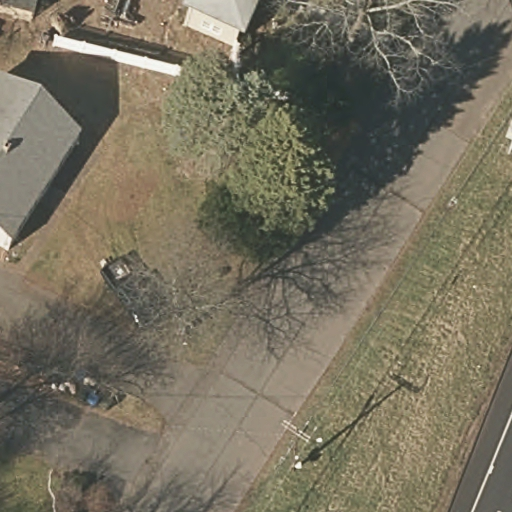DT: (267, 408, 334, 478)
